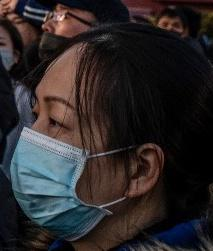OK: (12, 78, 121, 241), (1, 35, 12, 73)
WRONG: (39, 6, 88, 65)
